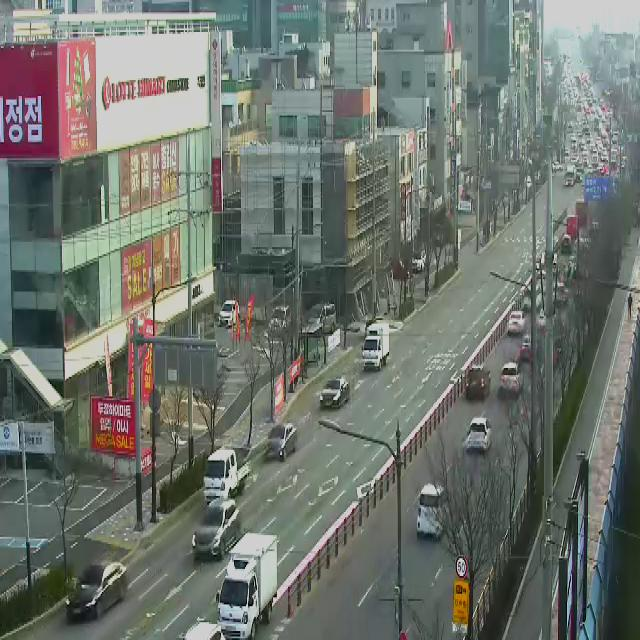Car: (66, 562, 128, 622), (192, 500, 239, 560), (418, 484, 447, 540), (264, 423, 297, 462), (308, 304, 336, 340), (320, 377, 349, 410), (179, 622, 226, 640), (466, 366, 490, 401), (467, 418, 491, 453), (500, 362, 523, 397), (268, 307, 292, 338), (218, 300, 239, 330), (524, 285, 542, 312), (508, 312, 525, 336), (553, 283, 568, 306), (539, 309, 556, 329), (567, 217, 580, 242), (412, 251, 426, 272), (520, 335, 531, 361), (561, 234, 573, 254), (458, 195, 472, 212)
Truck: (216, 533, 277, 640), (203, 450, 251, 506), (362, 323, 389, 372), (566, 166, 576, 187)
